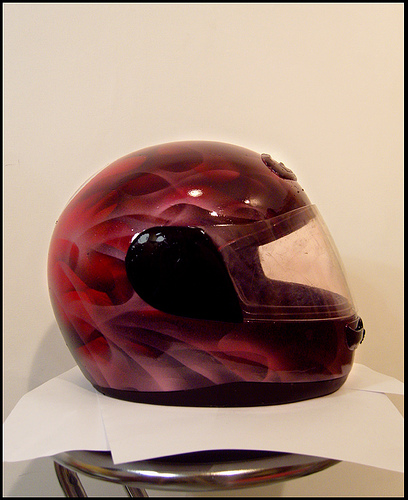helmet: (44, 139, 364, 386)
